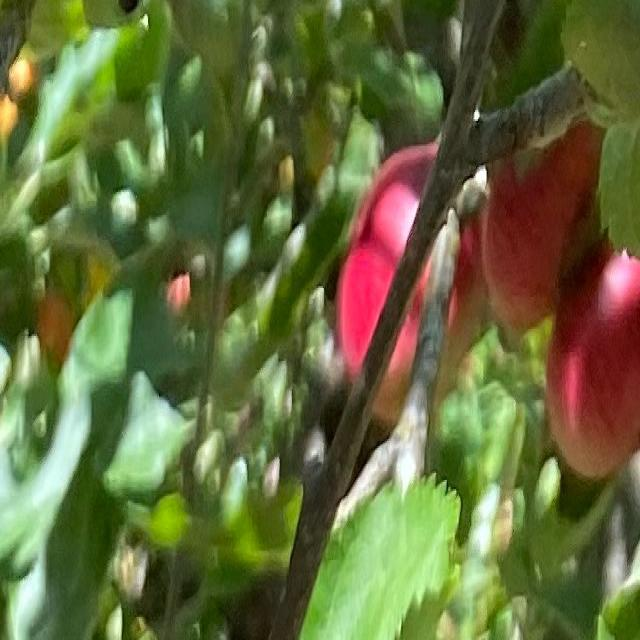Apples: (339, 144, 483, 418), (485, 115, 601, 329), (547, 238, 639, 478)
